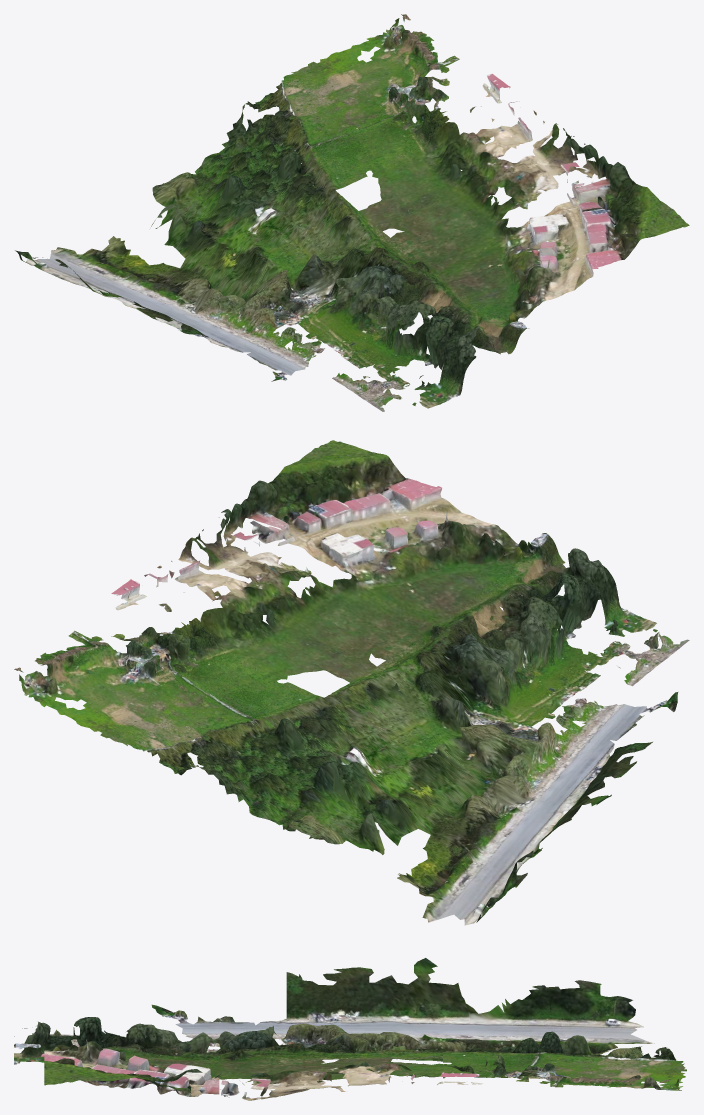
File: bairro_11.glb
The picture shows the model from 3 angles, top to bottom: view 1: azimuth 30°, elevation 25°; view 2: azimuth 150°, elevation 25°; view 3: azimuth 270°, elevation 25°; orthographic projection. The views are drawn at different scales.
Visible parts, largest first — view 1: bairro_11; view 2: bairro_11; view 3: bairro_11.
Part boxes in pixels (box(x1,y1,x2,y2)): bairro_11: box(15, 14, 689, 411); bairro_11: box(14, 440, 689, 925); bairro_11: box(14, 958, 686, 1100).
Size of the model in its own units: 131 by 44.95 by 166.
Materials: 1 (1 with a texture image).
